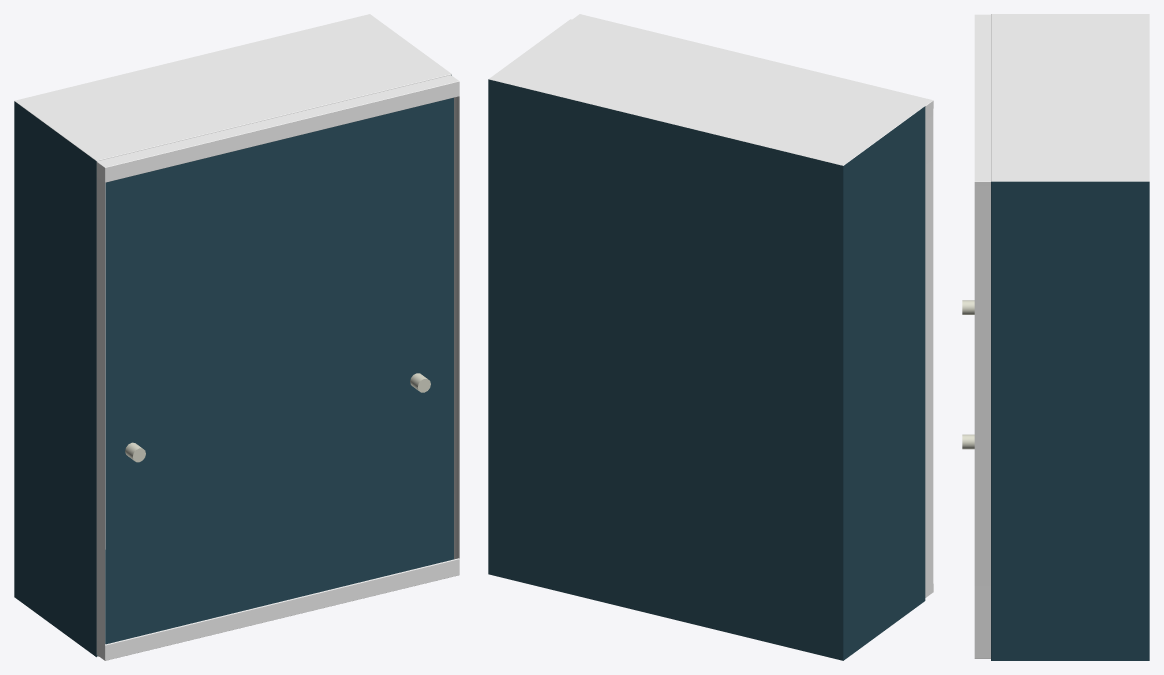
File: Kitchen_Cabinet.fbx
3 renders of one model, left to right at view 1: azimuth 30°, elevation 25°; view 2: azimuth 150°, elevation 25°; view 3: azimuth 270°, elevation 25°, orthographic. The views are drawn at different scales.
Parts seen in each view (by area): view 1: Kitchen_Cabinet; view 2: Kitchen_Cabinet; view 3: Kitchen_Cabinet.
Boxes of the visible parts, x1,y1,x2,y2 form: Kitchen_Cabinet: (14, 14, 459, 660); Kitchen_Cabinet: (488, 14, 933, 660); Kitchen_Cabinet: (962, 14, 1149, 660).
Bounding box in the file's own units: 150 × 200 × 70.8.
